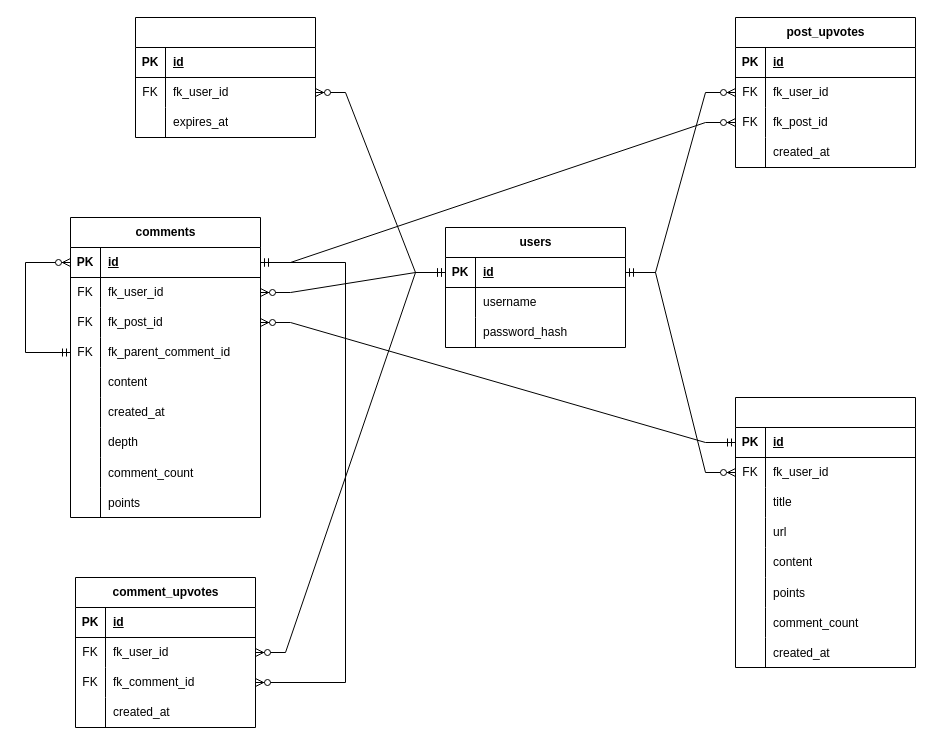
Some shapes in this 933 by 745 pixel diagram are drawn without their labels. The box of each missing label's shape, as (x1, y1, x2, y2) in pixels:
posts: (734, 396, 916, 668)
sessions: (134, 16, 316, 138)
